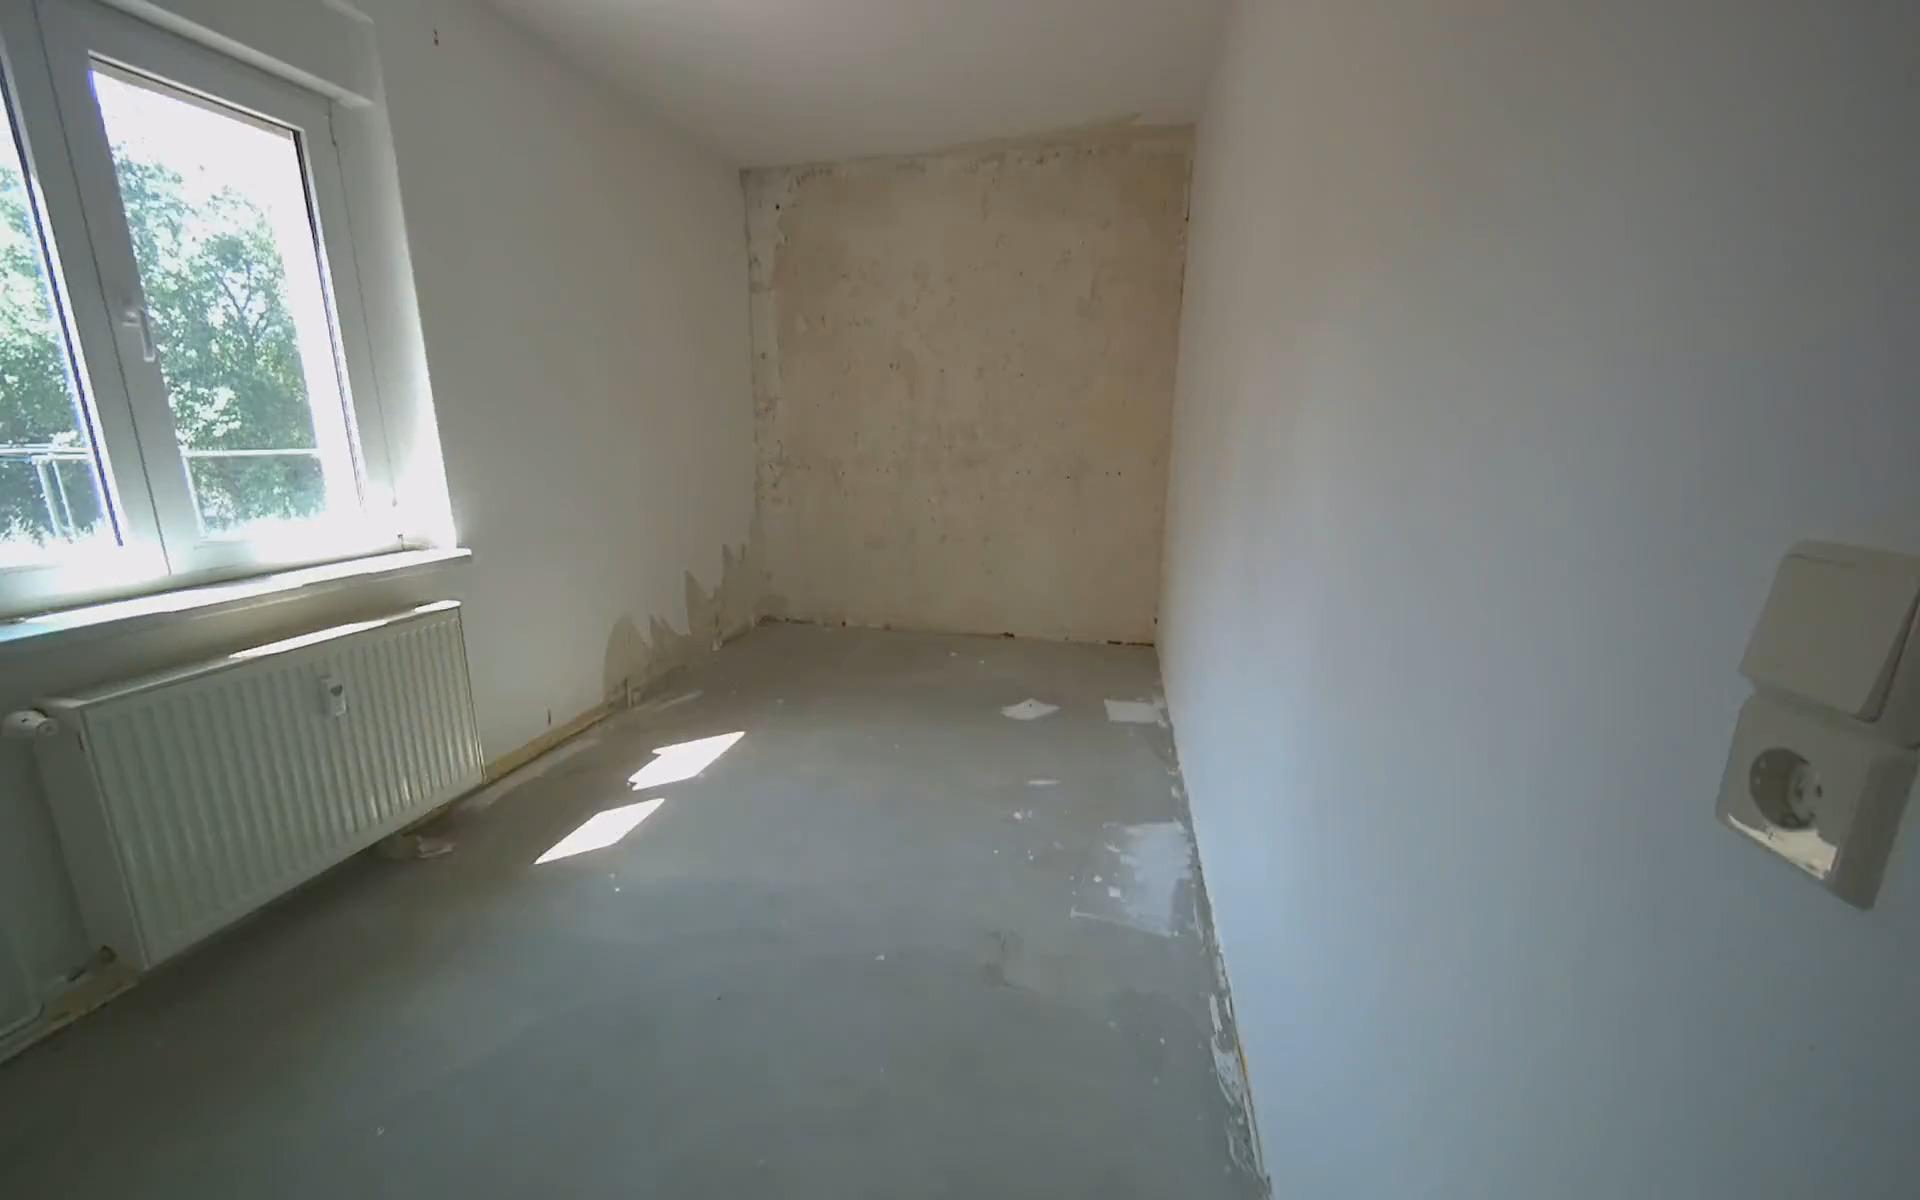radiator: (1, 597, 496, 977)
window: (0, 0, 405, 621)
